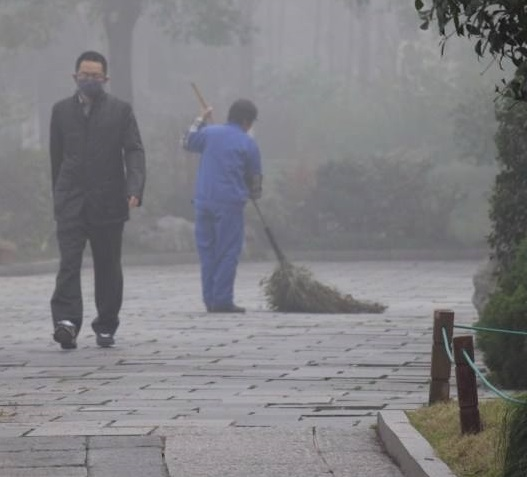person: (47, 48, 149, 347), (178, 97, 266, 316)
